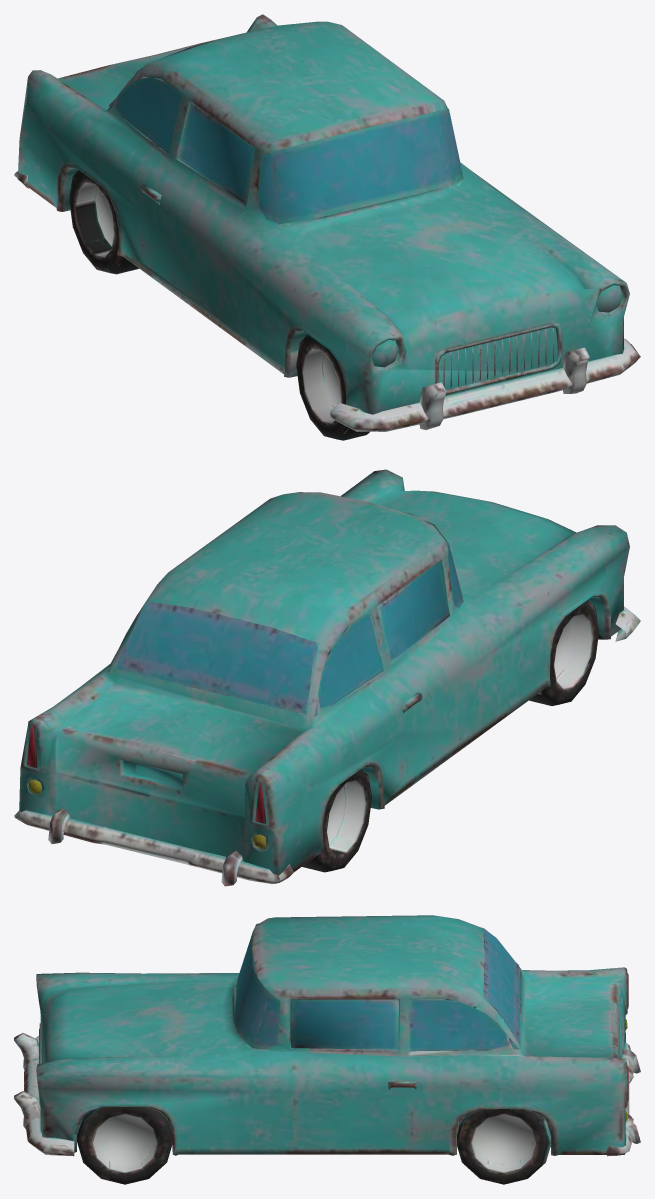
Rendered from wreck-car.lod0.glb.
3 views of the same model, one above another, from view 1: azimuth 30°, elevation 25°; view 2: azimuth 150°, elevation 25°; view 3: azimuth 270°, elevation 25° (orthographic). The views are drawn at different scales.
Visible parts, largest first — view 1: Object_2; view 2: Object_2; view 3: Object_2.
Boxes of the visible parts, left/top/right/bottom form: Object_2: left=14, top=14, right=640, bottom=440; Object_2: left=14, top=469, right=640, bottom=886; Object_2: left=14, top=915, right=640, bottom=1184.
Bounding box in the file's own units: 2.2 × 1.63 × 4.8.
1 material, 1 textured.
